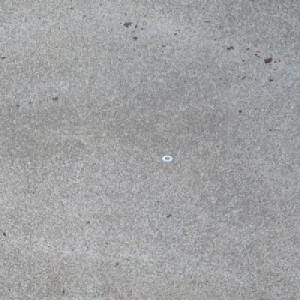Washer: (161, 155, 173, 161)
